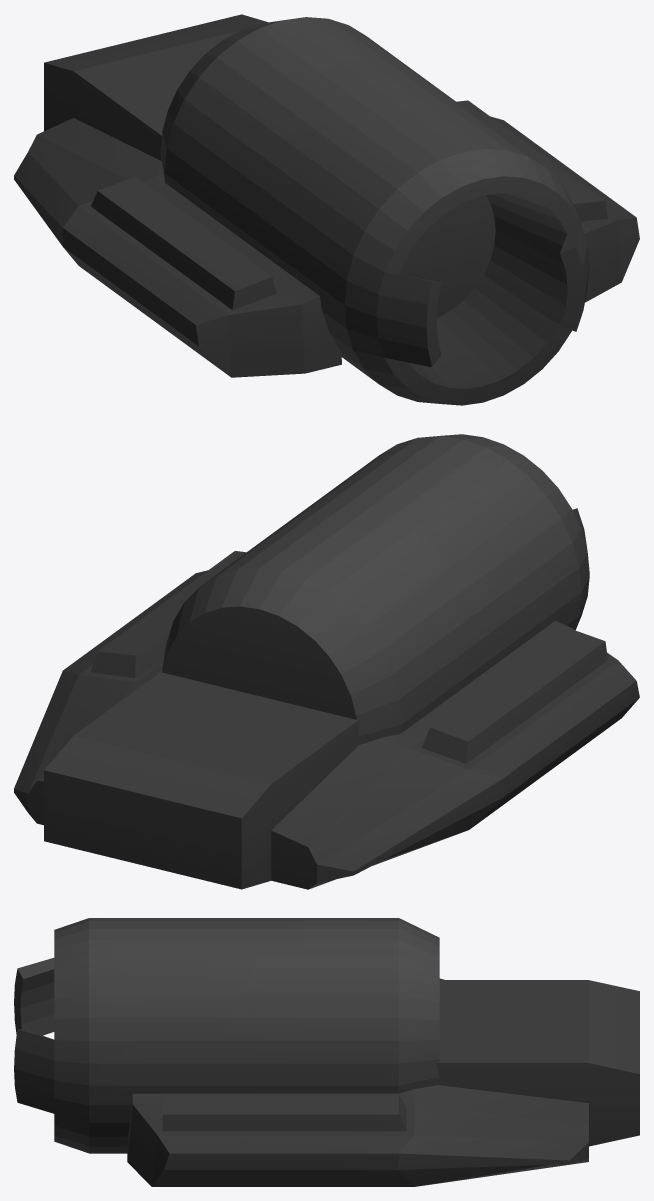
The model's file is gunship_corvette.glb.
3 views of the same model, one above another, from view 1: azimuth 30°, elevation 25°; view 2: azimuth 150°, elevation 25°; view 3: azimuth 270°, elevation 25° (orthographic). The views are drawn at different scales.
Visible parts, largest first — view 1: Cylinder, Cube; view 2: Cube, Cylinder; view 3: Cylinder, Cube.
Part boxes in pixels (x1,y1,x2,y2): Cylinder: (160,17,589,405); Cube: (14,14,639,377); Cube: (14,551,639,889); Cylinder: (162,434,589,744); Cylinder: (14,918,439,1153); Cube: (127,978,639,1186).
Size of what is drawn, in the model's own units: 13.39 by 7.2 by 19.12.
Materials: 1 (1 with a texture image).
